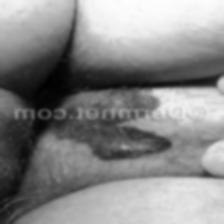Potentially Malignant Skin Tumors: (30, 127, 192, 161), (68, 86, 160, 106)
